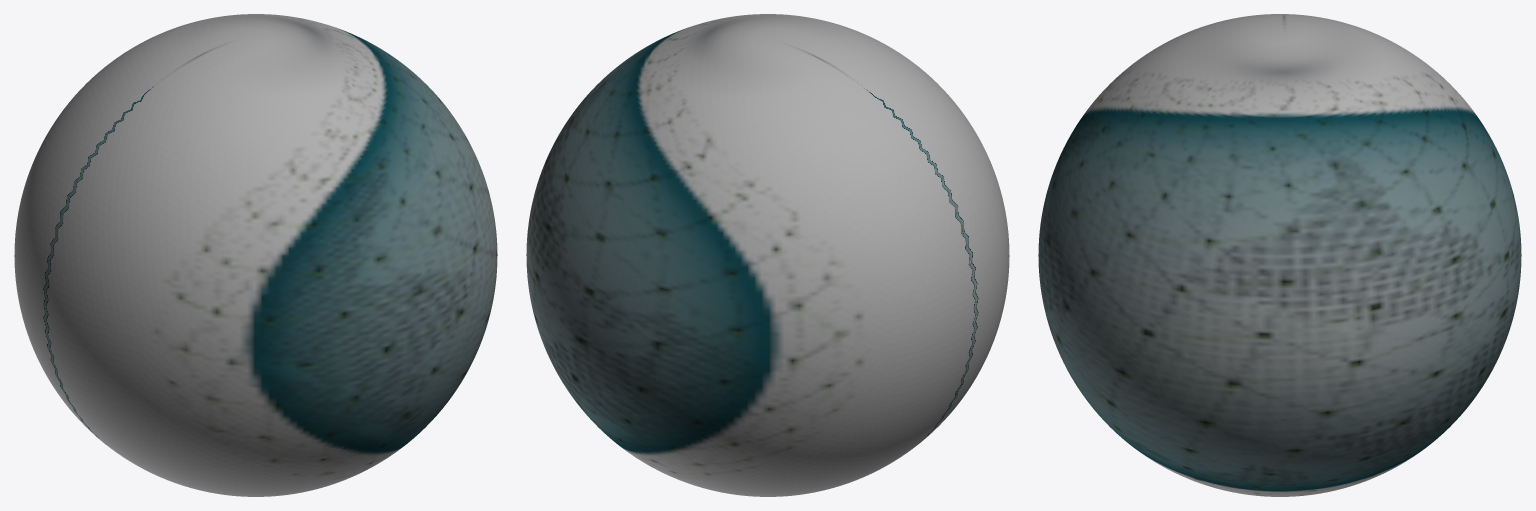
File: globe.glb
3 views of the same model, side by side, from view 1: azimuth 30°, elevation 25°; view 2: azimuth 150°, elevation 25°; view 3: azimuth 270°, elevation 25° (orthographic).
Parts seen in each view (by area): view 1: world; view 2: world; view 3: world.
Boxes of the visible parts, x1=… form: world: x1=14, y1=14, x2=497, y2=496; world: x1=526, y1=14, x2=1009, y2=496; world: x1=1038, y1=14, x2=1521, y2=496.
Size of the model in its own units: 2 by 2 by 2.
Materials: 1 (1 with a texture image).
